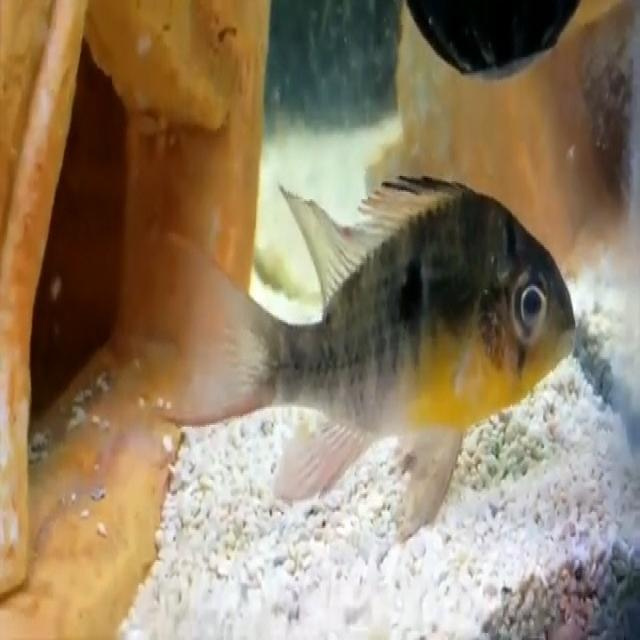fish: (171, 166, 582, 544)
